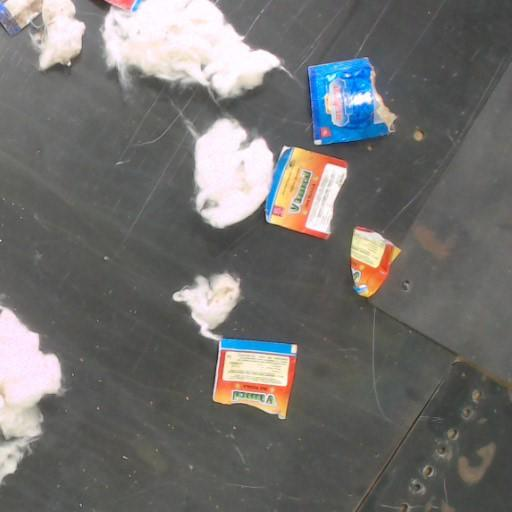conveyor belt: (0, 0, 511, 511)
cotton: (101, 0, 281, 98), (0, 306, 61, 482), (194, 117, 274, 228), (174, 275, 238, 340)
packet: (265, 147, 347, 239), (308, 58, 395, 144), (214, 339, 296, 417), (350, 227, 399, 297), (104, 0, 141, 10)
